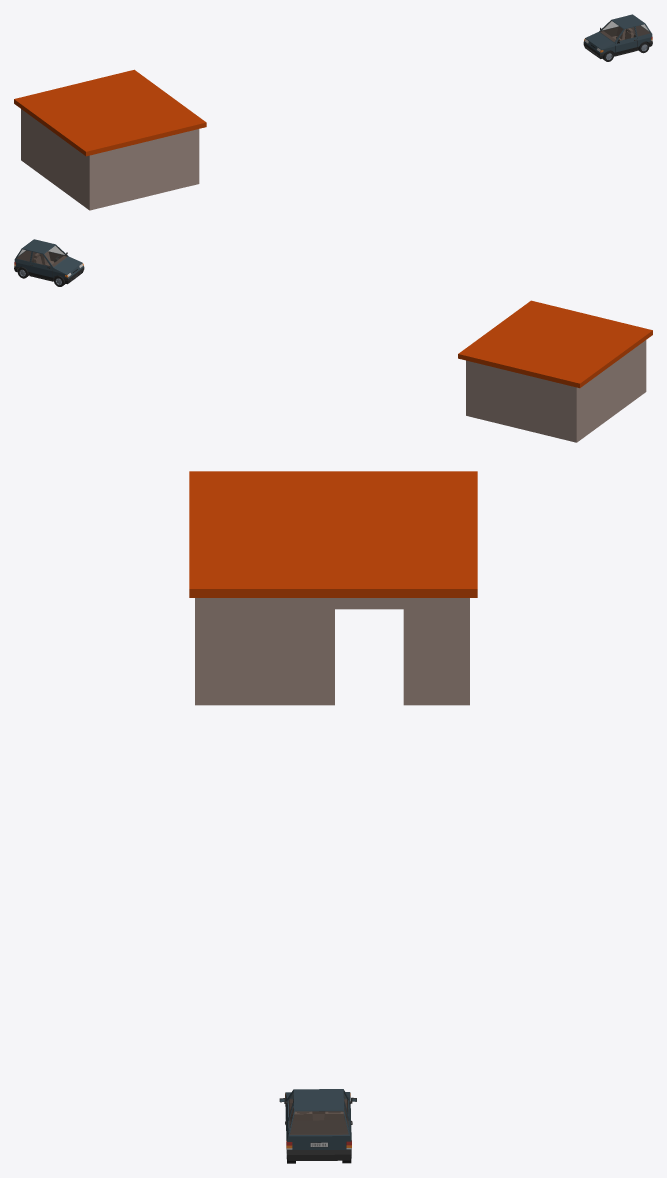
3 views of the same model, one above another, from view 1: azimuth 30°, elevation 25°; view 2: azimuth 150°, elevation 25°; view 3: azimuth 270°, elevation 25° (orthographic). The views are drawn at different scales.
Visible parts, largest first — view 1: Box (×5), car_body, windows, door_l; view 2: Box (×4), car_body, windows, door_r; view 3: Box (×5), car_body, windows.
Boxes of the visible parts, x1=… form: Box (×5): x1=14, y1=69, x2=206, y2=210; car_body: x1=583, y1=14, x2=652, y2=58; windows: x1=600, y1=21, x2=649, y2=41; door_l: x1=615, y1=26, x2=637, y2=54; Box (×4): x1=458, y1=300, x2=652, y2=442; car_body: x1=14, y1=239, x2=84, y2=284; windows: x1=17, y1=246, x2=66, y2=266; door_r: x1=30, y1=251, x2=52, y2=279; Box (×5): x1=189, y1=471, x2=477, y2=705; car_body: x1=285, y1=1089, x2=351, y2=1160; windows: x1=289, y1=1095, x2=348, y2=1134.
Size of what is drawn, in the model's own units: 10.8 by 1.07 by 2.28.
Materials: 4 (2 with a texture image).
